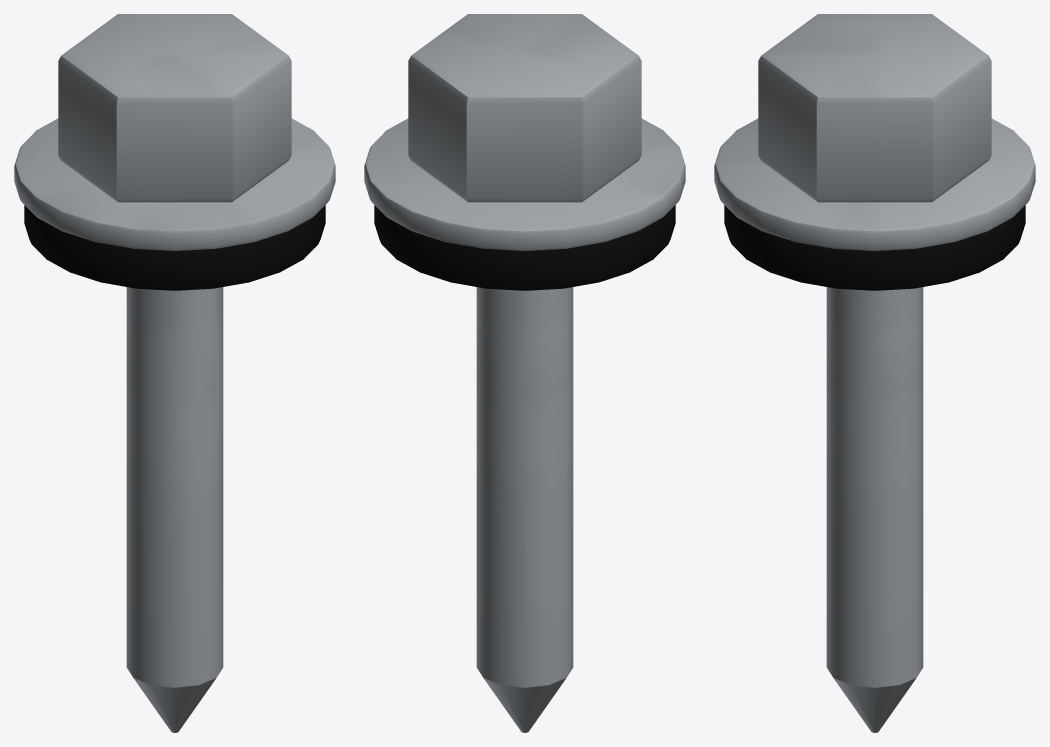
Rendered from COB-ACS-002.glb.
3 renders of one model, left to right at view 1: azimuth 30°, elevation 25°; view 2: azimuth 150°, elevation 25°; view 3: azimuth 270°, elevation 25°, orthographic.
Parts seen in each view (by area): view 1: COB-ACS-002_cabeca, COB-ACS-002_haste, COB-ACS-002_arruela, COB-ACS-002_vedacao, COB-ACS-002_broca; view 2: COB-ACS-002_cabeca, COB-ACS-002_haste, COB-ACS-002_arruela, COB-ACS-002_vedacao, COB-ACS-002_broca; view 3: COB-ACS-002_cabeca, COB-ACS-002_haste, COB-ACS-002_arruela, COB-ACS-002_vedacao, COB-ACS-002_broca.
Boxes of the visible parts, x1,y1,x2,y2 form: COB-ACS-002_cabeca: (58,14,291,202); COB-ACS-002_haste: (126,287,223,687); COB-ACS-002_arruela: (14,118,335,250); COB-ACS-002_vedacao: (24,205,325,290); COB-ACS-002_broca: (133,678,216,732); COB-ACS-002_cabeca: (408,14,641,202); COB-ACS-002_haste: (476,287,573,687); COB-ACS-002_arruela: (364,118,685,250); COB-ACS-002_vedacao: (374,205,675,290); COB-ACS-002_broca: (483,678,566,732); COB-ACS-002_cabeca: (758,14,991,202); COB-ACS-002_haste: (826,287,923,687); COB-ACS-002_arruela: (714,118,1035,250); COB-ACS-002_vedacao: (724,205,1025,290); COB-ACS-002_broca: (833,678,916,732).
Bounding box in the file's own units: 0.016 × 0.0372 × 0.016.
Materials: 2 (2 with a texture image).
